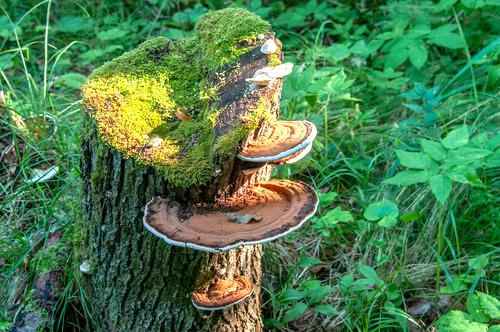Ganoderma - Fruit Body: (148, 180, 322, 252), (239, 120, 317, 165), (190, 273, 256, 314)
